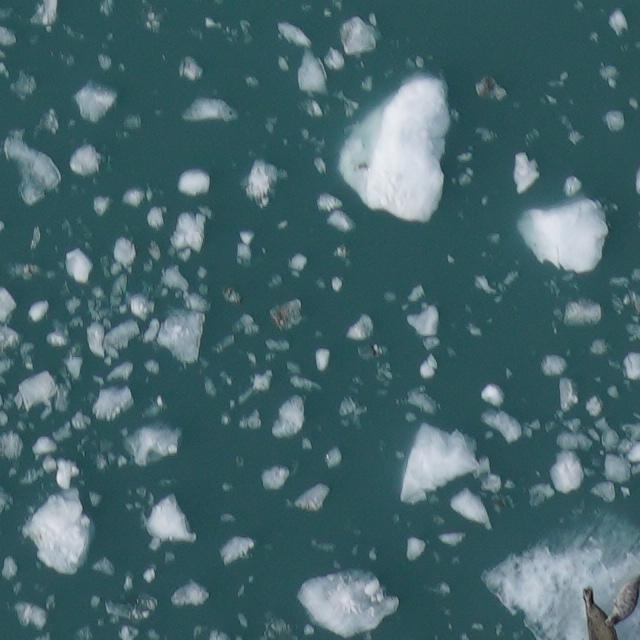seal: (579, 583, 617, 640)
